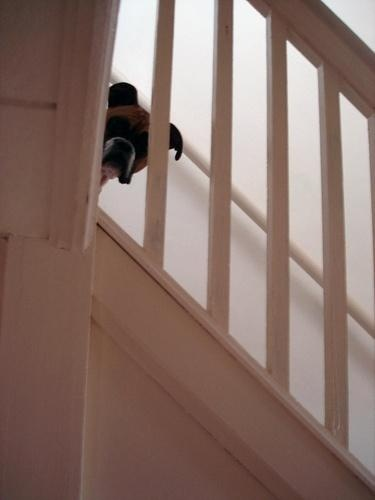dog: (99, 80, 184, 195)
